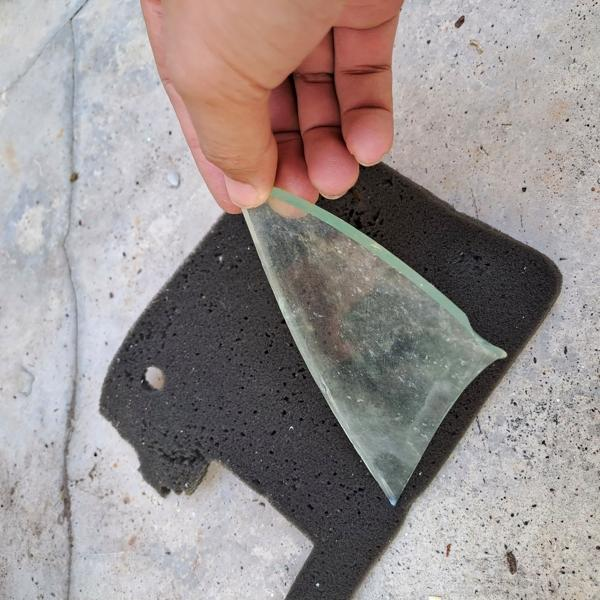Anorganik: (227, 209, 536, 514)
